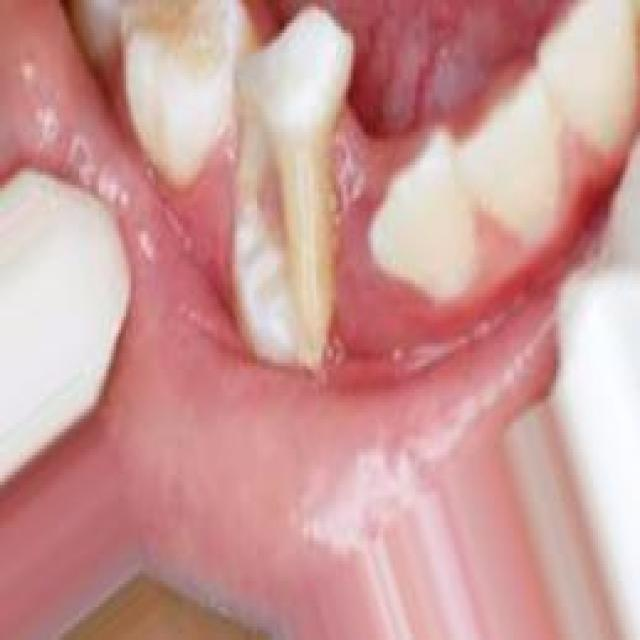caries: (214, 70, 353, 363)
